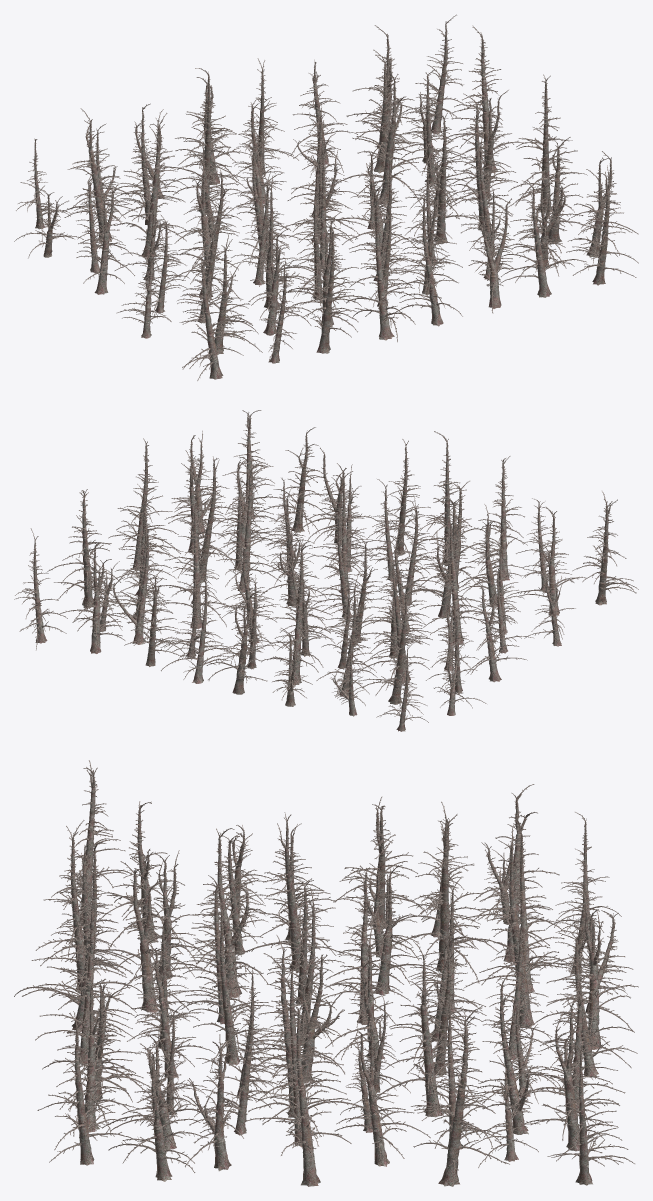
The model's file is 64_dead_fir_trees_pack_low-poly.glb.
3 renders of one model, top to bottom at view 1: azimuth 30°, elevation 25°; view 2: azimuth 150°, elevation 25°; view 3: azimuth 270°, elevation 25°, orthographic. The views are drawn at different scales.
Parts seen in each view (by area): view 1: Object_58, Object_54, Object_16, Object_5, Object_36, Object_56, Object_11, Object_33, Object_3, Object_61, Object_62, Object_18 (+49 smaller); view 2: Object_5, Object_18, Object_36, Object_33, Object_3, Object_63, Object_29, Object_16, Object_54, Object_35, Object_8, Object_61 (+50 smaller); view 3: Object_18, Object_36, Object_16, Object_48, Object_11, Object_29, Object_63, Object_58, Object_62, Object_34, Object_35, Object_5 (+52 smaller).
Boxes of the visible parts, x1,y1,x2,y2 form: Object_58: (346, 179, 415, 342); Object_54: (179, 255, 245, 380); Object_16: (329, 74, 428, 206); Object_5: (160, 68, 245, 213); Object_36: (507, 74, 587, 212); Object_56: (300, 219, 361, 353); Object_11: (113, 123, 186, 258); Object_33: (404, 113, 482, 244); Object_3: (61, 108, 137, 242); Object_61: (500, 180, 586, 297); Object_62: (566, 165, 638, 285); Object_18: (441, 25, 526, 173); Object_5: (261, 545, 330, 684); Object_18: (47, 489, 120, 608); Object_36: (108, 438, 183, 571); Object_33: (216, 463, 283, 592); Object_3: (358, 591, 429, 704); Object_63: (58, 542, 127, 653); Object_29: (419, 520, 490, 644); Object_16: (157, 498, 237, 628); Object_54: (572, 491, 638, 605); Object_35: (206, 590, 275, 694); Object_8: (112, 528, 172, 644); Object_61: (255, 427, 328, 533); Object_18: (413, 1006, 509, 1186); Object_36: (270, 1003, 351, 1186); Object_16: (376, 941, 476, 1117); Object_48: (85, 861, 204, 1012); Object_11: (392, 801, 510, 983); Object_29: (236, 812, 343, 973); Object_63: (520, 987, 625, 1151); Object_58: (14, 842, 141, 1031); Object_62: (37, 1011, 138, 1165); Object_34: (243, 953, 370, 1147); Object_35: (533, 889, 638, 1049); Object_5: (463, 825, 571, 1027).
Bounding box in the file's own units: 44.19 × 12.94 × 38.15.
1 material, 1 textured.
